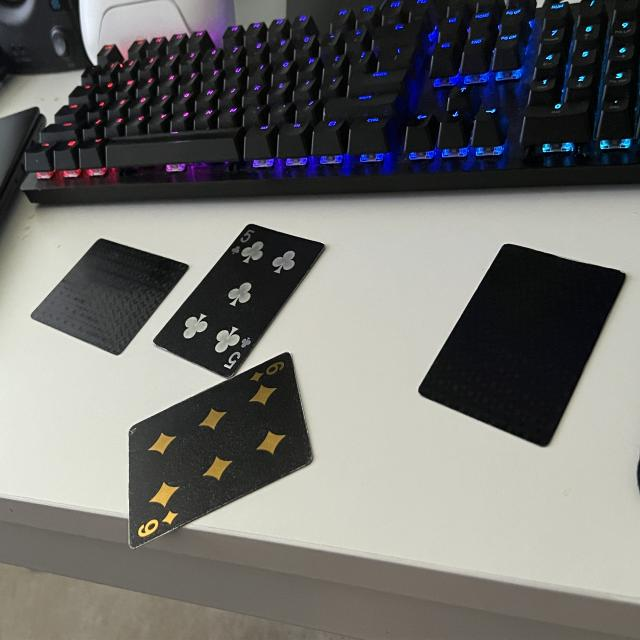5C: (223, 334, 252, 371), (229, 227, 255, 256)
6D: (136, 508, 184, 538), (248, 360, 288, 384)
BACK: (413, 239, 633, 453), (27, 233, 193, 360)
